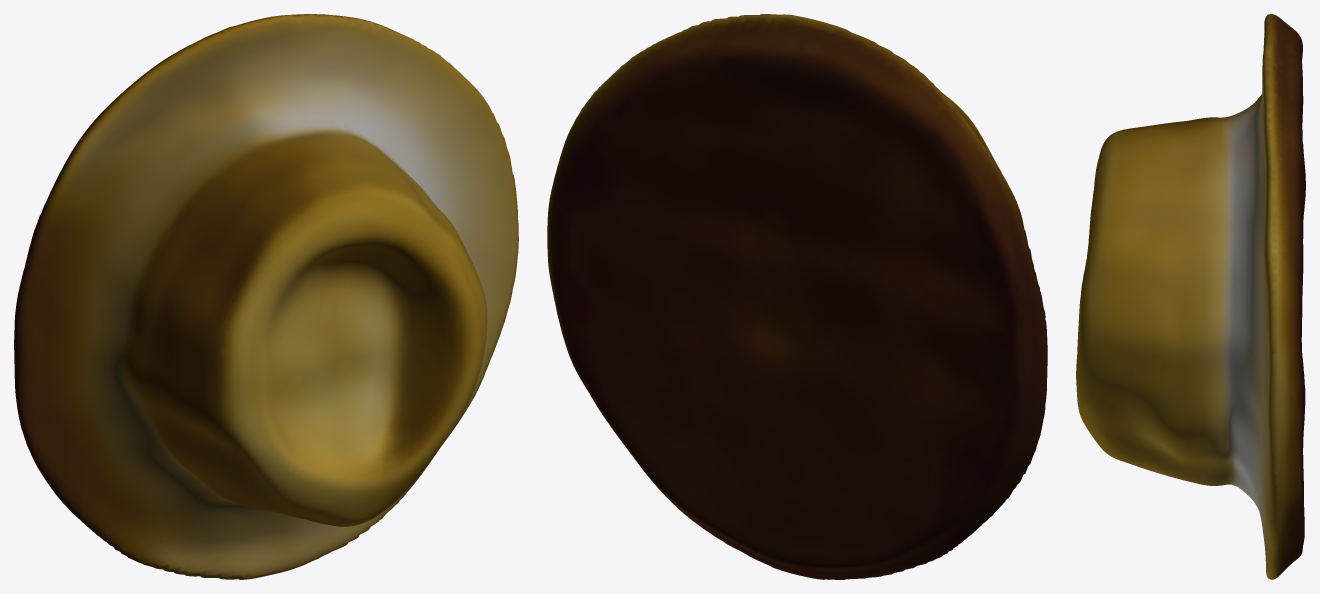
File: hat.glb
3 views of the same model, side by side, from view 1: azimuth 30°, elevation 25°; view 2: azimuth 150°, elevation 25°; view 3: azimuth 270°, elevation 25° (orthographic). The views are drawn at different scales.
Bounding box in the file's own units: 0.9338 × 0.9969 × 0.4049.
